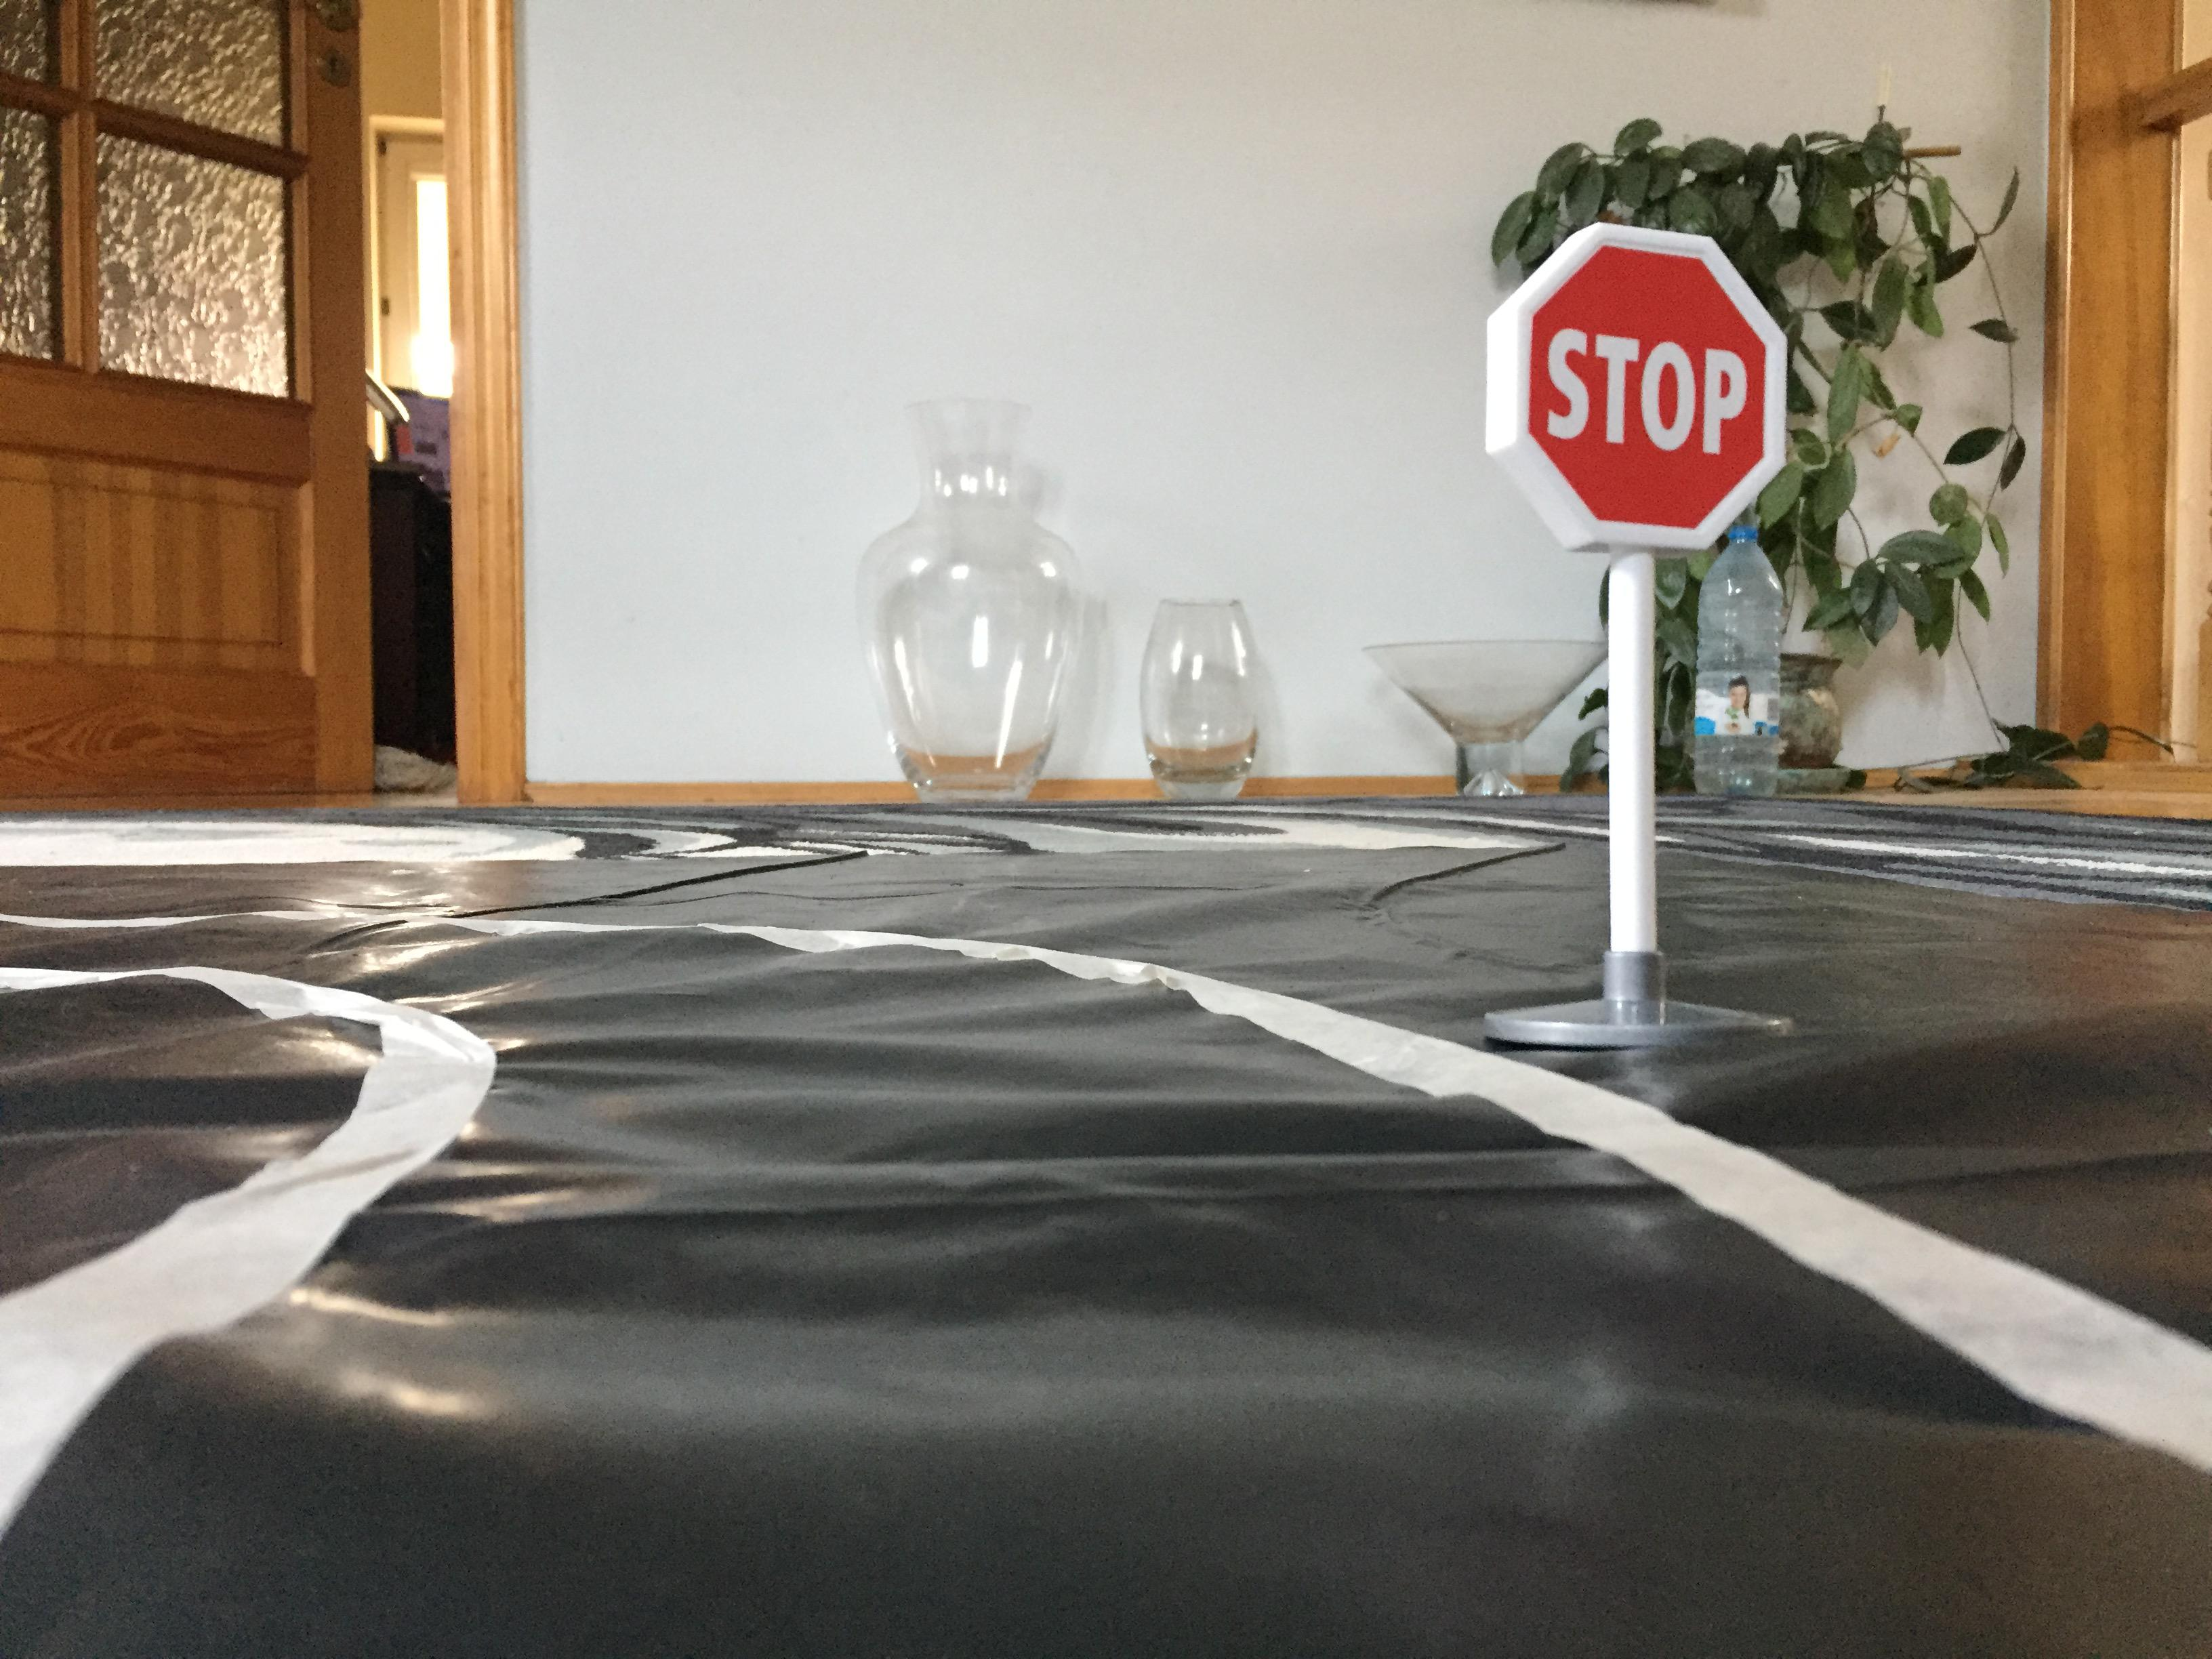stop: (1468, 221, 1803, 573)
